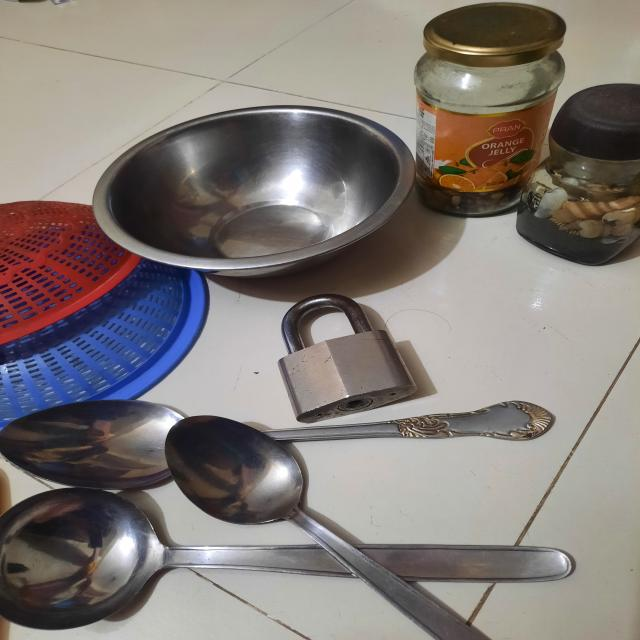Metal: (0, 379, 560, 640), (115, 109, 471, 464)
